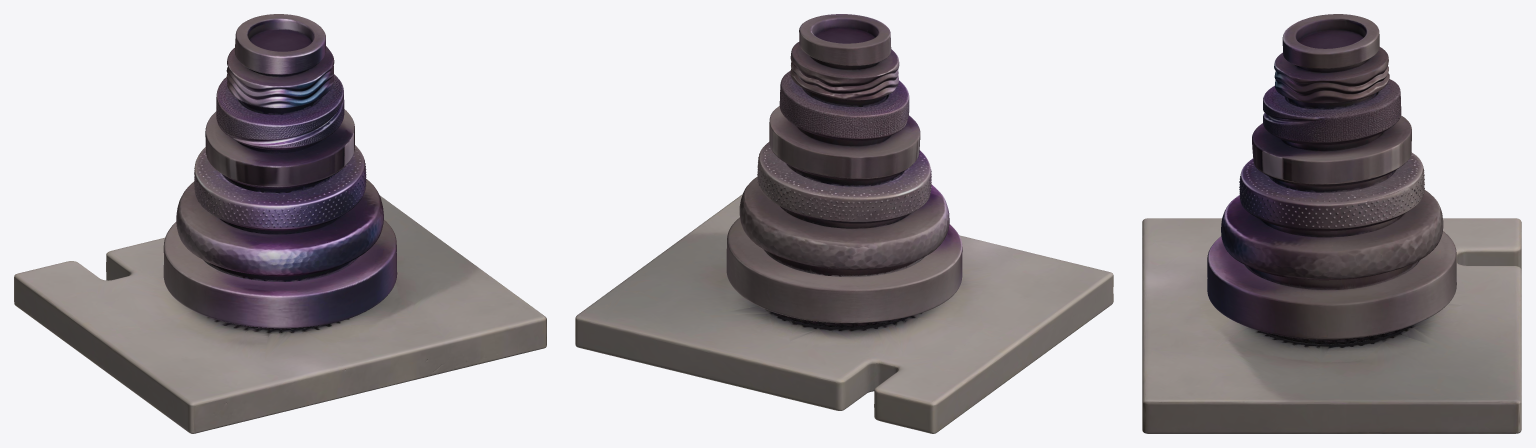
Rendered from H10-web.glb.
3 renders of one model, left to right at view 1: azimuth 30°, elevation 25°; view 2: azimuth 150°, elevation 25°; view 3: azimuth 270°, elevation 25°, orthographic. The views are drawn at different scales.
Visible parts, largest first — view 1: tripo_node_c42aeed4-c79a-4ac0-af0d-e4e3efebe216; view 2: tripo_node_c42aeed4-c79a-4ac0-af0d-e4e3efebe216; view 3: tripo_node_c42aeed4-c79a-4ac0-af0d-e4e3efebe216.
Part boxes in pixels (x1=…): tripo_node_c42aeed4-c79a-4ac0-af0d-e4e3efebe216: x1=14, y1=14, x2=546, y2=433; tripo_node_c42aeed4-c79a-4ac0-af0d-e4e3efebe216: x1=575, y1=14, x2=1113, y2=433; tripo_node_c42aeed4-c79a-4ac0-af0d-e4e3efebe216: x1=1142, y1=14, x2=1521, y2=433.
Bounding box in the file's own units: 0.3 × 0.2362 × 0.2602.
Materials: 1 (1 with a texture image).
